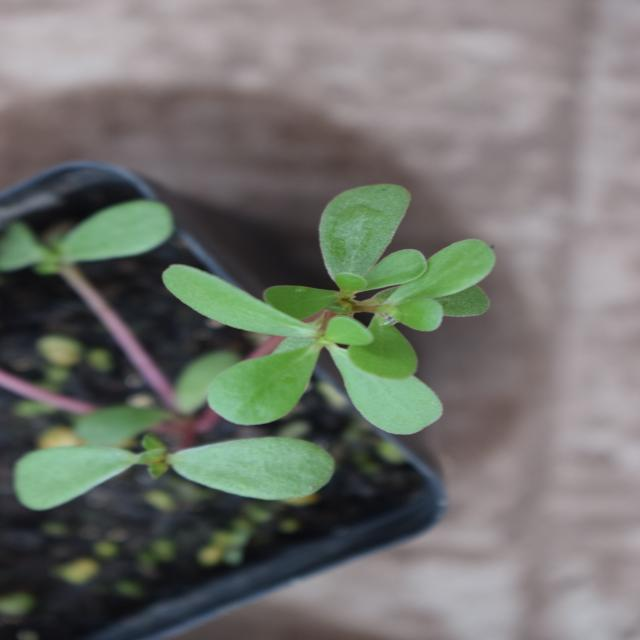purslane: (114, 41, 446, 496)
